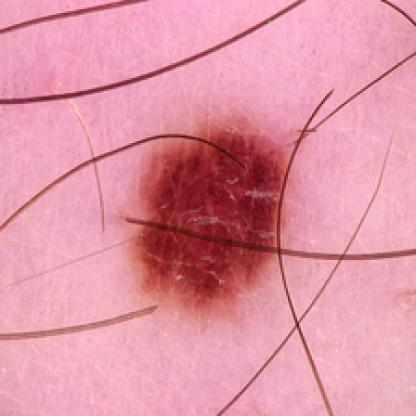benign: (126, 115, 299, 301)
